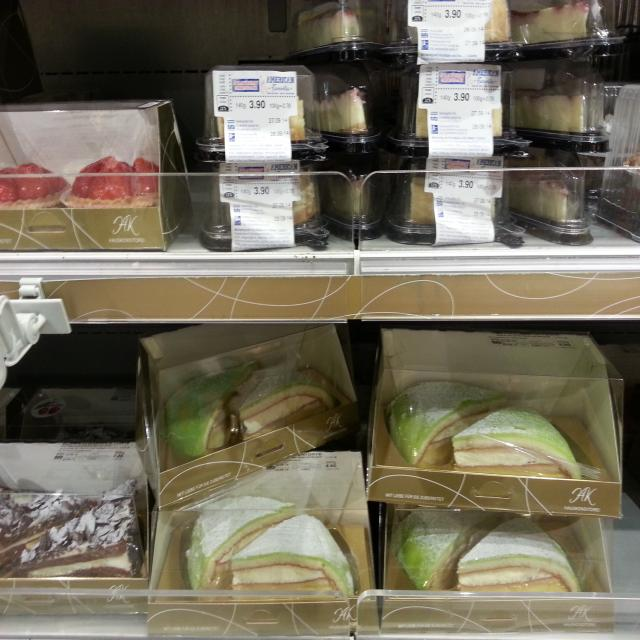Bakery: (366, 325, 624, 519), (135, 322, 356, 510), (152, 452, 376, 636), (375, 501, 617, 634), (1, 102, 186, 254), (0, 438, 149, 613), (396, 62, 524, 155), (197, 162, 329, 249), (201, 64, 325, 156), (395, 158, 523, 246), (513, 63, 609, 154), (513, 152, 594, 246), (391, 0, 521, 54), (318, 66, 390, 142), (520, 0, 628, 50), (294, 2, 384, 55)
